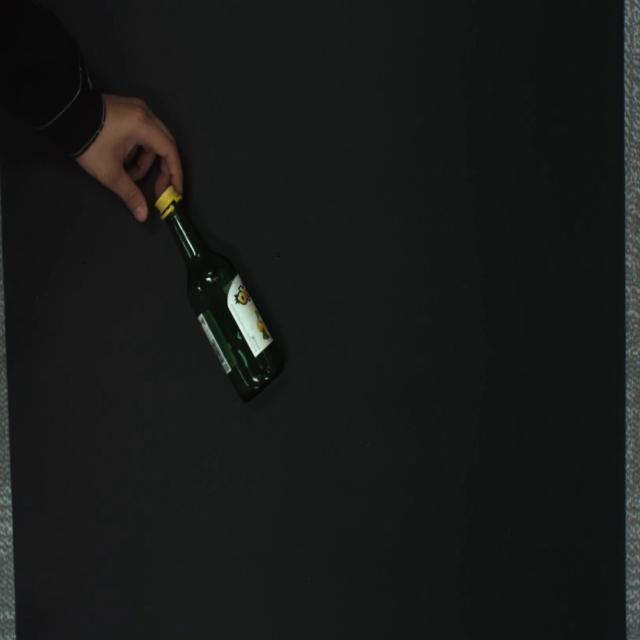soju-bottle: (155, 184, 283, 401)
